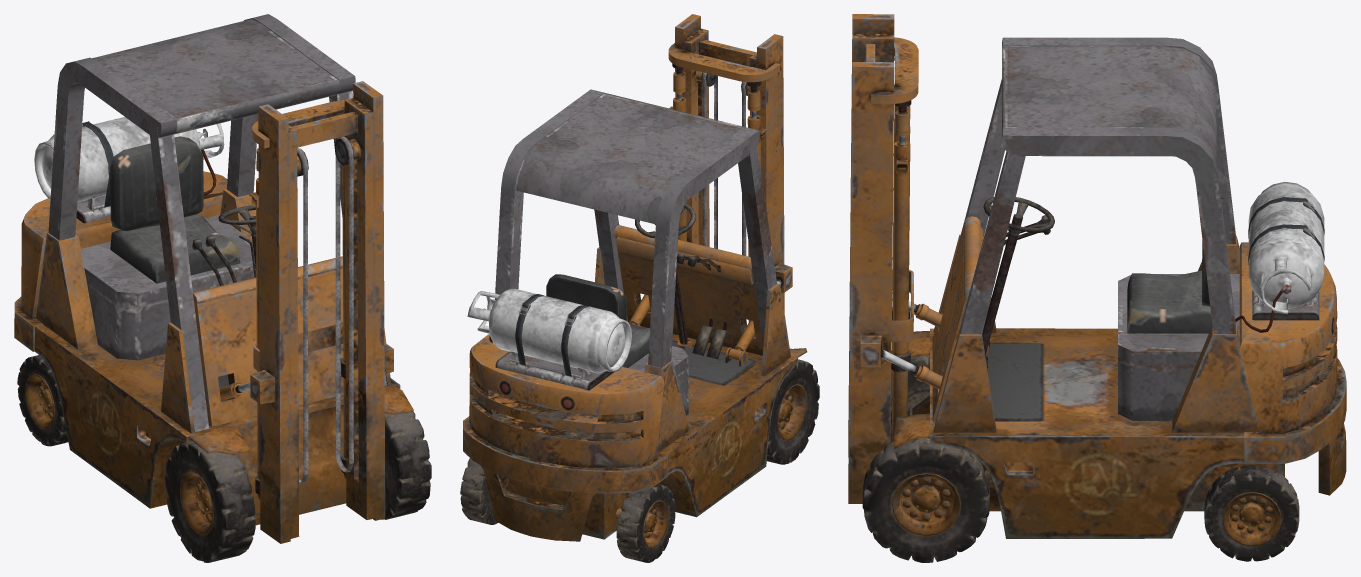
The model's file is SM_Fin_ForkLift01.fbx.
3 renders of one model, left to right at view 1: azimuth 30°, elevation 25°; view 2: azimuth 150°, elevation 25°; view 3: azimuth 270°, elevation 25°, orthographic. The views are drawn at different scales.
Parts seen in each view (by area): view 1: SM_Fin_ForkLift01.mo; view 2: SM_Fin_ForkLift01.mo; view 3: SM_Fin_ForkLift01.mo.
Part boxes in pixels (x1,y1,x2,y2): SM_Fin_ForkLift01.mo: (14, 14, 431, 562); SM_Fin_ForkLift01.mo: (460, 14, 819, 562); SM_Fin_ForkLift01.mo: (848, 14, 1346, 562).
Bounding box in the file's own units: 132 × 262 × 252.
